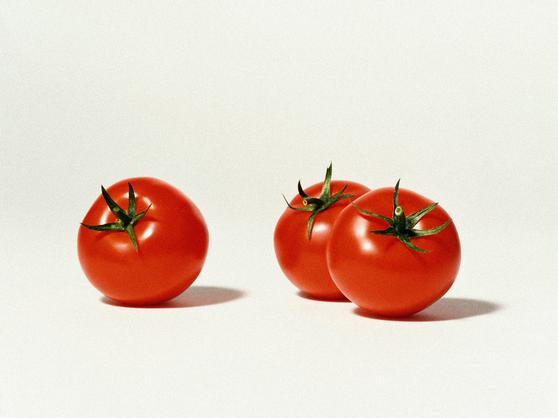tomato: (74, 176, 211, 308), (326, 188, 462, 318)
